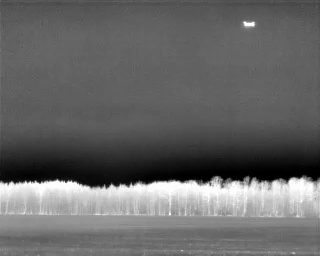DRONE: (239, 16, 260, 33)
